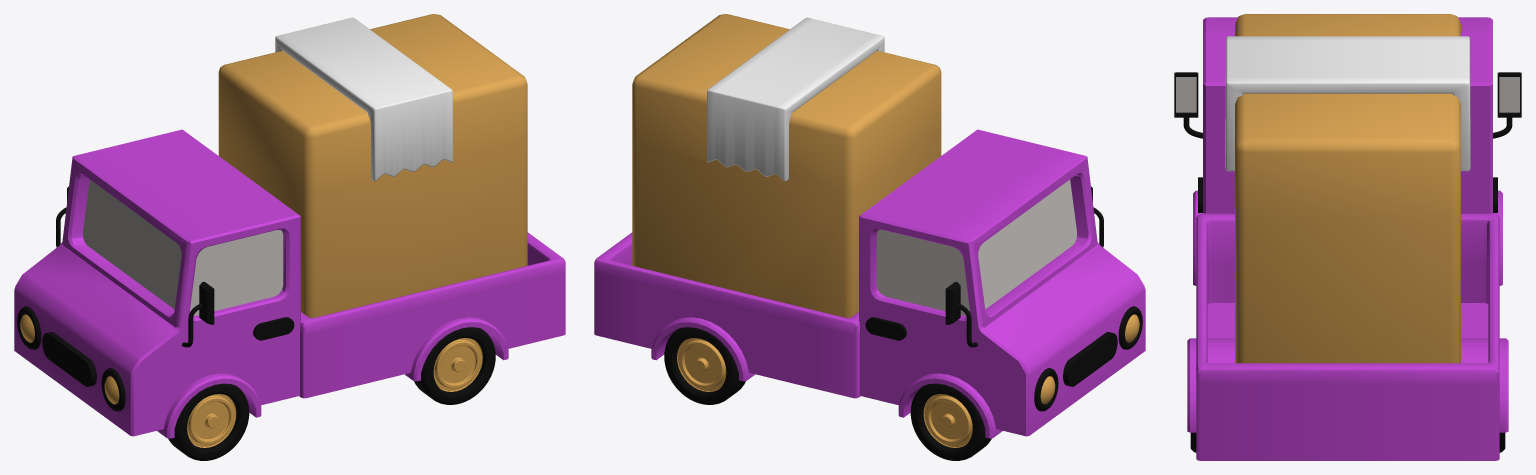
Rendered from Fast delivery truck.fbx.
3 renders of one model, left to right at view 1: azimuth 30°, elevation 25°; view 2: azimuth 150°, elevation 25°; view 3: azimuth 270°, elevation 25°, orthographic. The views are drawn at different scales.
Parts seen in each view (by area): view 1: Box, Body, Cube, F L.001, F L; view 2: Box, Body, Cube, F L.001, F L; view 3: Box, Cube, Body.
Boxes of the visible parts, x1,y1,x2,y2 form: Box: [218, 14, 527, 317]; Body: [14, 129, 508, 438]; Cube: [299, 232, 565, 398]; F L.001: [414, 327, 495, 404]; F L: [168, 383, 249, 460]; Box: [632, 14, 941, 317]; Body: [651, 129, 1145, 438]; Cube: [594, 232, 860, 398]; F L.001: [664, 327, 745, 404]; F L: [910, 383, 991, 460]; Box: [1225, 14, 1470, 363]; Cube: [1196, 213, 1499, 460]; Body: [1174, 17, 1521, 432].
Size of the model in its own units: 511 by 337 by 286.
Materials: 4 (4 with a texture image).
